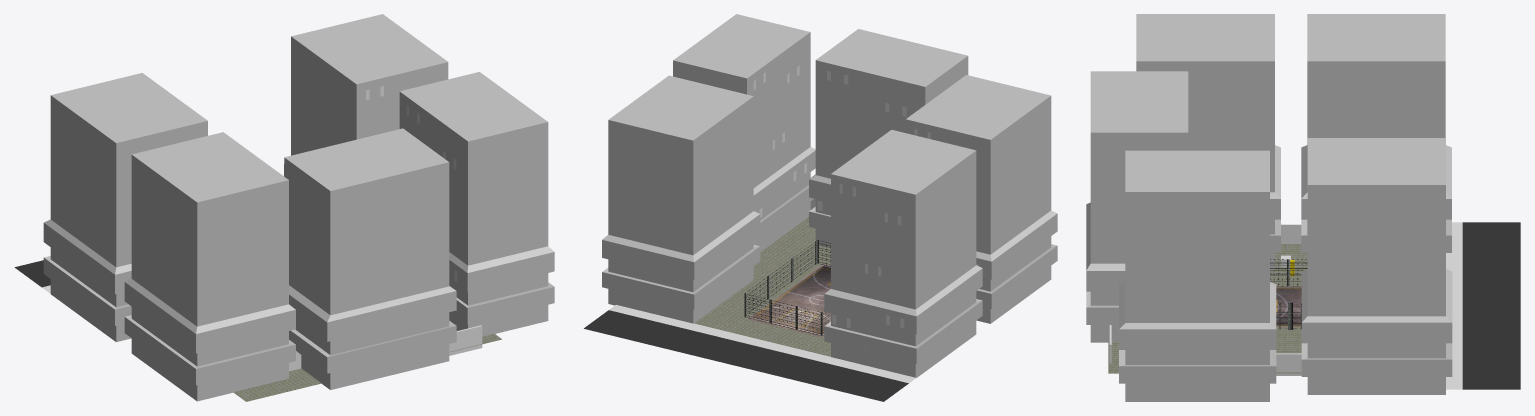
The picture shows the model from 3 angles, left to right: view 1: azimuth 30°, elevation 25°; view 2: azimuth 150°, elevation 25°; view 3: azimuth 270°, elevation 25°; orthographic projection. The views are drawn at different scales.
Parts seen in each view (by area): view 1: EdificioA.001, EdificioA.004, EdificioA.003, EdificioA, EdificioA.002, Plane, Pared.003, Plane.002; view 2: EdificioA, EdificioA.002, EdificioA.001, EdificioA.003, EdificioA.004, Plane.002, Plane, Rejas; view 3: EdificioA.003, EdificioA.002, EdificioA, EdificioA.001, EdificioA.004, Plane.002, Plane, Rejas, Pared.001, Pared.
Boxes of the visible parts, <box> form: EdificioA.001: <box>124,132,295,401</box>; EdificioA.004: <box>284,128,456,389</box>; EdificioA.003: <box>399,72,554,336</box>; EdificioA: <box>43,73,207,342</box>; EdificioA.002: <box>284,14,448,176</box>; Plane: <box>233,333,501,401</box>; Pared.003: <box>449,325,482,355</box>; Plane.002: <box>14,260,50,293</box>; EdificioA: <box>824,129,982,377</box>; EdificioA.002: <box>602,75,760,323</box>; EdificioA.001: <box>905,75,1057,323</box>; EdificioA.003: <box>673,14,815,251</box>; EdificioA.004: <box>809,29,968,247</box>; Plane.002: <box>584,305,916,401</box>; Plane: <box>694,217,830,356</box>; Rejas: <box>744,240,830,335</box>; EdificioA.003: <box>1119,150,1276,401</box>; EdificioA.002: <box>1301,138,1452,394</box>; EdificioA: <box>1301,14,1451,267</box>; EdificioA.001: <box>1136,14,1280,270</box>; EdificioA.004: <box>1086,71,1188,342</box>; Plane.002: <box>1446,222,1520,389</box>; Plane: <box>1108,244,1307,373</box>; Rejas: <box>1270,259,1307,329</box>; Pared.001: <box>1276,353,1301,375</box>; Pared: <box>1281,224,1301,243</box>.
Size of the model in its own units: 1420 by 803 by 1433.
